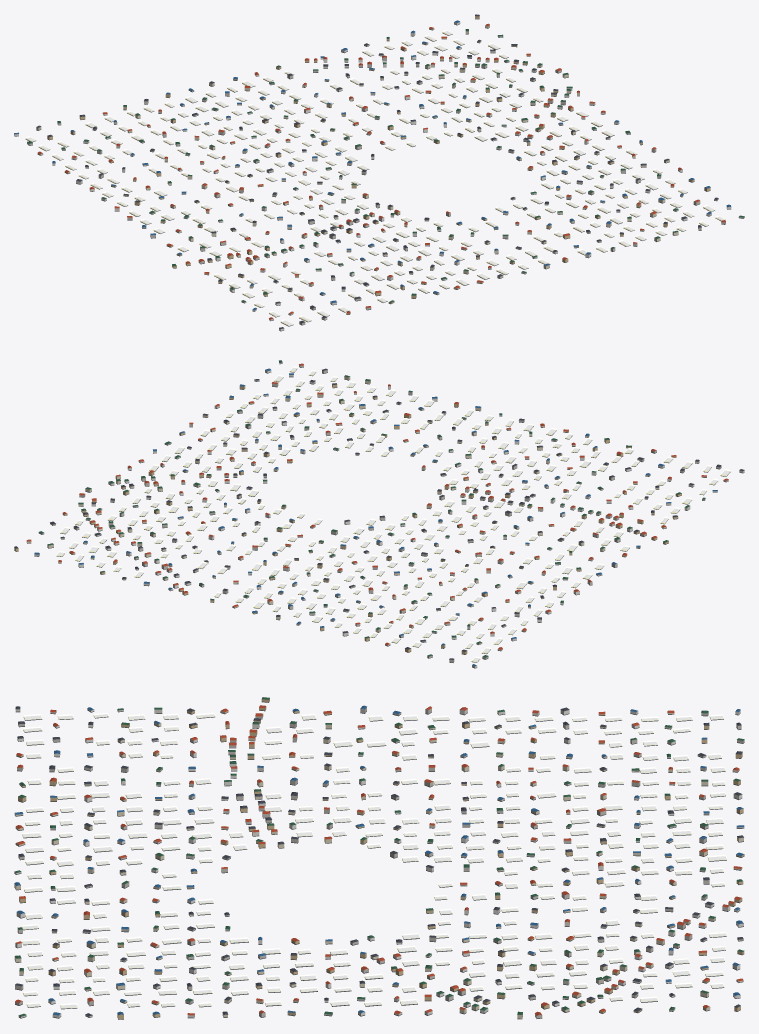
File: buildings_T_E11_S05.glb
The picture shows the model from 3 angles, top to bottom: view 1: azimuth 30°, elevation 25°; view 2: azimuth 150°, elevation 25°; view 3: azimuth 270°, elevation 25°; orthographic projection. The views are drawn at different scales.
Visible parts, largest first — view 1: T_E11_S05_roofs_agri_greenhouse_arch, T_E11_S05_slope_seating_foundations, T_E11_S05_walls_wall_pastel_sand_gray, T_E11_S05_walls_wall_french_ochre_villa, T_E11_S05_roofs_roof_terracotta_gable, T_E11_S05_walls_wall_dalat_cream_stucco, T_E11_S05_walls_wall_modern_warm_white, T_E11_S05_roofs_roof_slate_French_villa_hip, T_E11_S05_roofs_roof_pine_green_hip, T_E11_S05_roofs_roof_highland_blue_gable; view 2: T_E11_S05_roofs_agri_greenhouse_arch, T_E11_S05_slope_seating_foundations, T_E11_S05_walls_wall_pastel_sand_gray, T_E11_S05_walls_wall_french_ochre_villa, T_E11_S05_roofs_roof_terracotta_gable, T_E11_S05_walls_wall_modern_warm_white, T_E11_S05_walls_wall_dalat_cream_stucco, T_E11_S05_roofs_roof_slate_French_villa_hip, T_E11_S05_roofs_roof_pine_green_hip, T_E11_S05_roofs_roof_highland_blue_gable; view 3: T_E11_S05_roofs_agri_greenhouse_arch, T_E11_S05_slope_seating_foundations, T_E11_S05_walls_wall_pastel_sand_gray, T_E11_S05_walls_wall_french_ochre_villa, T_E11_S05_roofs_roof_terracotta_gable, T_E11_S05_walls_wall_dalat_cream_stucco, T_E11_S05_walls_wall_modern_warm_white, T_E11_S05_roofs_roof_slate_French_villa_hip, T_E11_S05_roofs_roof_pine_green_hip, T_E11_S05_roofs_roof_highland_blue_gable.
Part boxes in pixels (bbox=[...]): T_E11_S05_roofs_agri_greenhouse_arch: bbox=[25, 30, 725, 325]; T_E11_S05_slope_seating_foundations: bbox=[14, 19, 744, 331]; T_E11_S05_walls_wall_pastel_sand_gray: bbox=[27, 36, 725, 324]; T_E11_S05_walls_wall_french_ochre_villa: bbox=[47, 16, 710, 314]; T_E11_S05_roofs_roof_terracotta_gable: bbox=[37, 23, 725, 319]; T_E11_S05_walls_wall_dalat_cream_stucco: bbox=[37, 25, 683, 294]; T_E11_S05_walls_wall_modern_warm_white: bbox=[14, 22, 744, 330]; T_E11_S05_roofs_roof_slate_French_villa_hip: bbox=[36, 14, 718, 329]; T_E11_S05_roofs_roof_pine_green_hip: bbox=[27, 29, 744, 302]; T_E11_S05_roofs_roof_highland_blue_gable: bbox=[14, 20, 731, 310]; T_E11_S05_roofs_agri_greenhouse_arch: bbox=[56, 366, 730, 662]; T_E11_S05_slope_seating_foundations: bbox=[14, 363, 744, 668]; T_E11_S05_walls_wall_pastel_sand_gray: bbox=[38, 364, 721, 662]; T_E11_S05_walls_wall_french_ochre_villa: bbox=[14, 384, 681, 654]; T_E11_S05_roofs_roof_terracotta_gable: bbox=[27, 363, 728, 649]; T_E11_S05_walls_wall_modern_warm_white: bbox=[34, 362, 744, 668]; T_E11_S05_walls_wall_dalat_cream_stucco: bbox=[26, 376, 671, 650]; T_E11_S05_roofs_roof_slate_French_villa_hip: bbox=[14, 368, 744, 659]; T_E11_S05_roofs_roof_pine_green_hip: bbox=[39, 360, 705, 657]; T_E11_S05_roofs_roof_highland_blue_gable: bbox=[34, 368, 717, 666]; T_E11_S05_roofs_agri_greenhouse_arch: bbox=[21, 712, 726, 1008]; T_E11_S05_slope_seating_foundations: bbox=[14, 701, 744, 1019]; T_E11_S05_walls_wall_pastel_sand_gray: bbox=[15, 707, 744, 1018]; T_E11_S05_walls_wall_french_ochre_villa: bbox=[16, 698, 744, 1019]; T_E11_S05_roofs_roof_terracotta_gable: bbox=[15, 705, 743, 1015]; T_E11_S05_walls_wall_dalat_cream_stucco: bbox=[14, 710, 743, 1018]; T_E11_S05_walls_wall_modern_warm_white: bbox=[14, 708, 743, 1017]; T_E11_S05_roofs_roof_slate_French_villa_hip: bbox=[15, 706, 743, 1016]; T_E11_S05_roofs_roof_pine_green_hip: bbox=[14, 697, 744, 1016]; T_E11_S05_roofs_roof_highland_blue_gable: bbox=[14, 705, 744, 1015].
Size of the model in its own units: 1831 by 36.36 by 1752.
